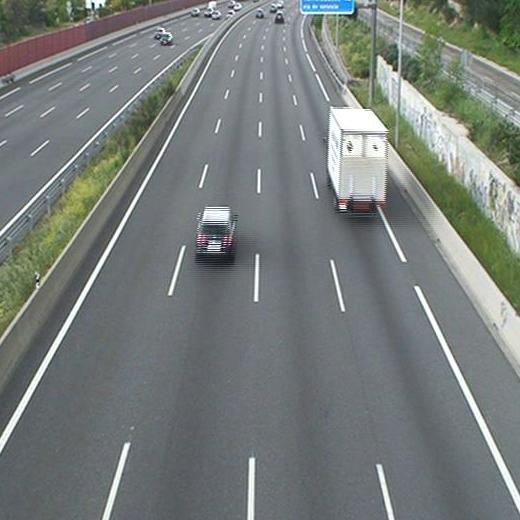cat: (194, 205, 237, 261)
small-truck: (326, 104, 389, 218)
